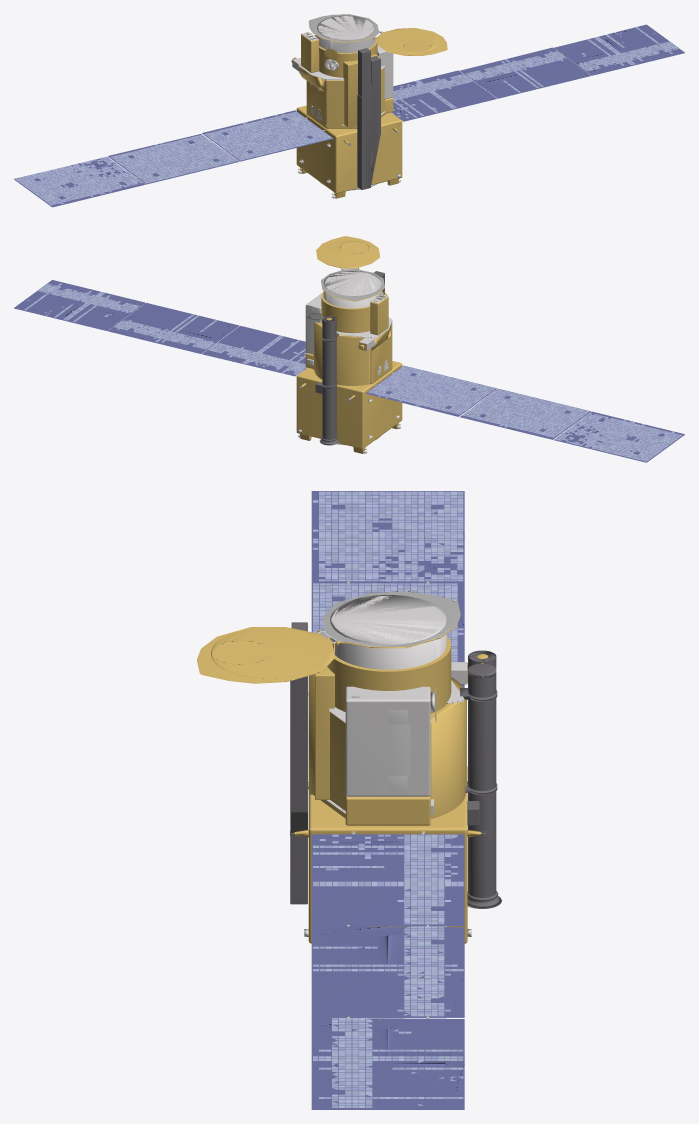
File: hinode.glb
3 renders of one model, top to bottom at view 1: azimuth 30°, elevation 25°; view 2: azimuth 150°, elevation 25°; view 3: azimuth 270°, elevation 25°, orthographic. The views are drawn at different scales.
Visible parts, largest first — view 1: Fake; view 2: Fake; view 3: Fake.
Part boxes in pixels (x1,y1,x2,y2): Fake: (14, 14, 684, 207); Fake: (14, 236, 684, 462); Fake: (197, 491, 501, 1109).
Bounding box in the file's own units: 230 × 52.5 × 47.96.
